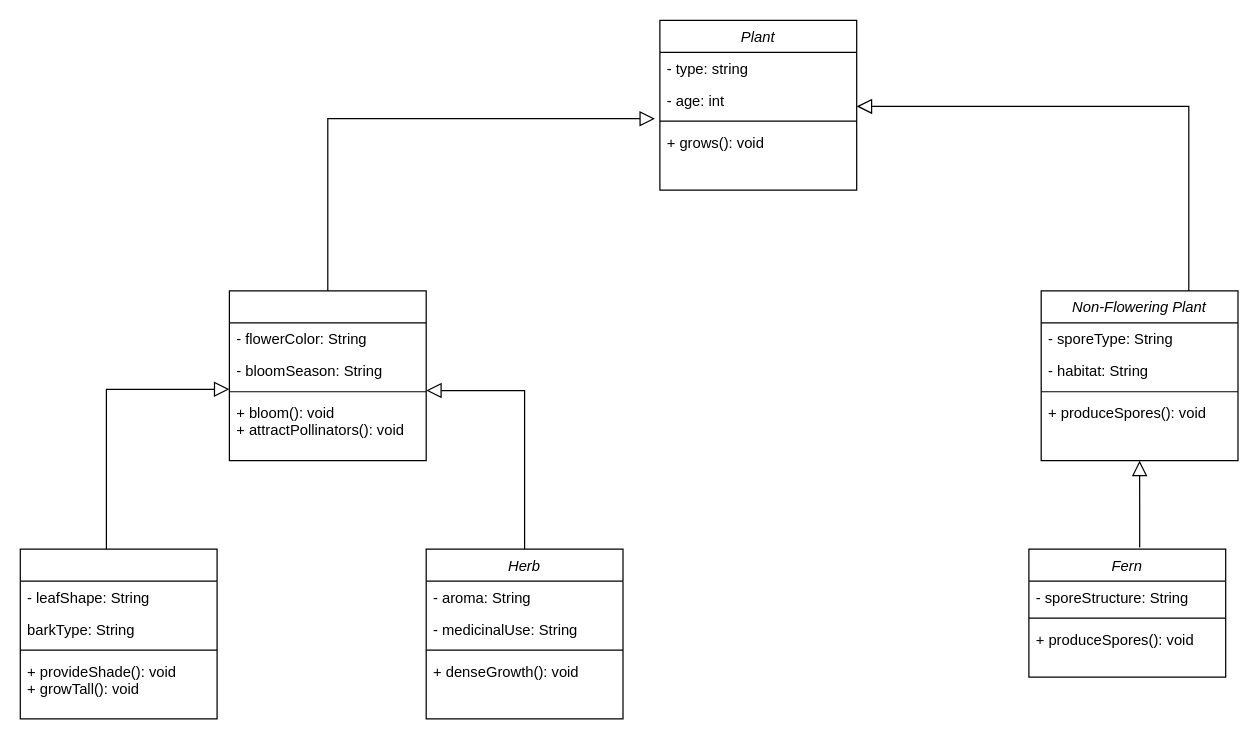
Image size: 1258x739. Some labels were removed from this diagram. The shapes that lost their labels are listed below. From the top down, each one's box as (x1, y1, x2, y2) in pixels, then its label:
(228, 290, 426, 461): Flowering Plant
(19, 548, 217, 719): Tree
